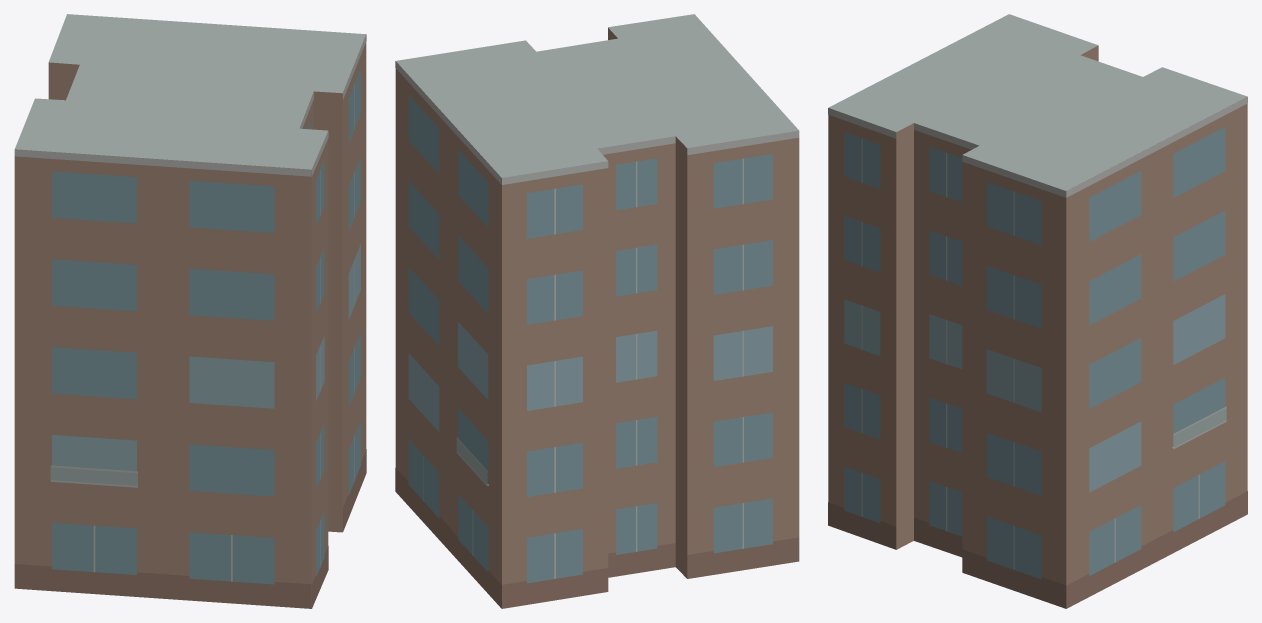
Rendered from survey-upis-32679191.glb.
3 views of the same model, side by side, from view 1: azimuth 30°, elevation 25°; view 2: azimuth 150°, elevation 25°; view 3: azimuth 270°, elevation 25° (orthographic). The views are drawn at different scales.
Visible parts, largest first — view 1: survey-upis-32679191.tmp; view 2: survey-upis-32679191.tmp; view 3: survey-upis-32679191.tmp.
Part boxes in pixels (x1,y1,x2,y2): survey-upis-32679191.tmp: (14, 14, 366, 608); survey-upis-32679191.tmp: (395, 14, 799, 608); survey-upis-32679191.tmp: (828, 14, 1247, 608).
Size of the model in its own units: 13.74 by 15.1 by 13.75.
